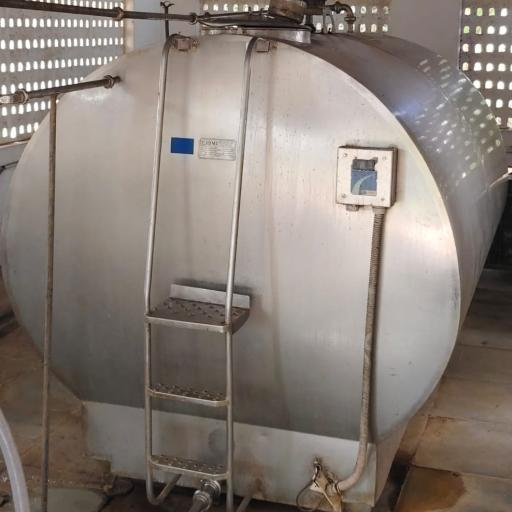silo: (0, 6, 507, 511)
